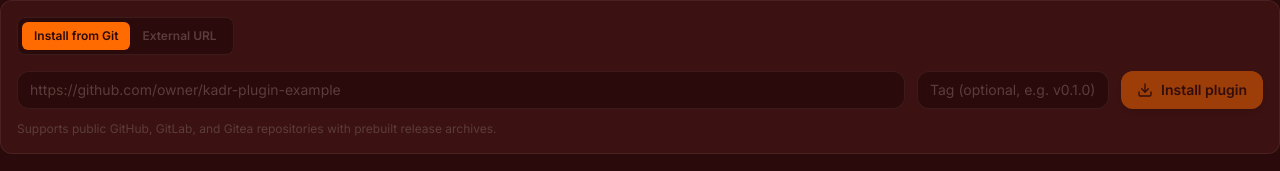
Test case: RegisterPluginForm › defaults to Git install mode when onInstall is supplied and switches to External URL
This screenshot has width=1280, height=171.
Later steps or results of the test are not shown.
In the field named "Repository URL": point(461, 90) 17,71 -> 905,109, type " https://github.com/acme/hello "
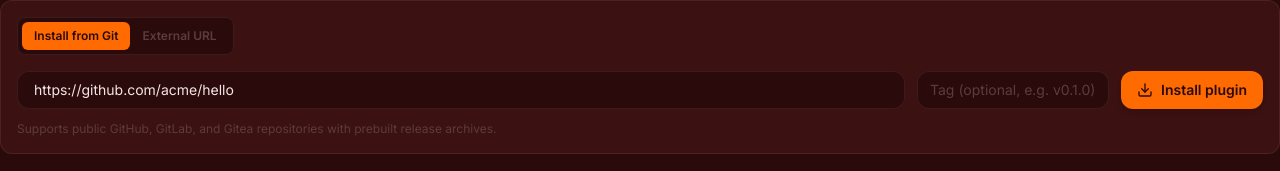
In the field named "Release tag": point(1013, 90) 917,71 -> 1109,109, type " v0.2.0 "
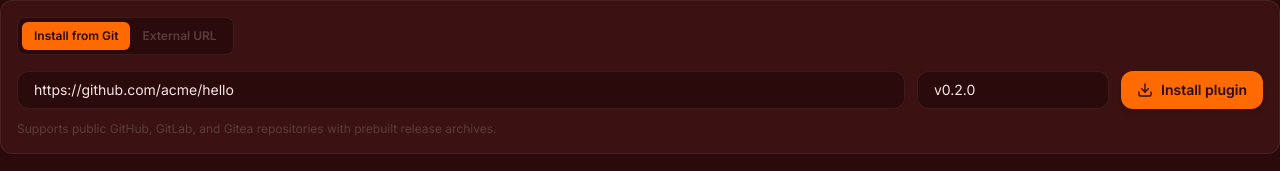
Click the button "Install plugin": point(1192, 90) 1121,71 -> 1263,109
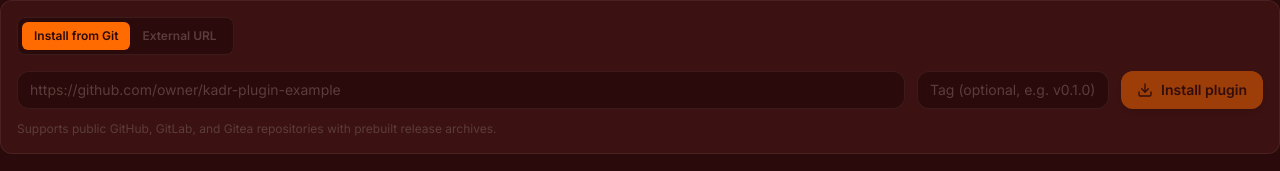
Result: the field named "Repository URL" is empty at 17,71 -> 905,109
Result: the field named "Release tag" is empty at 917,71 -> 1109,109
